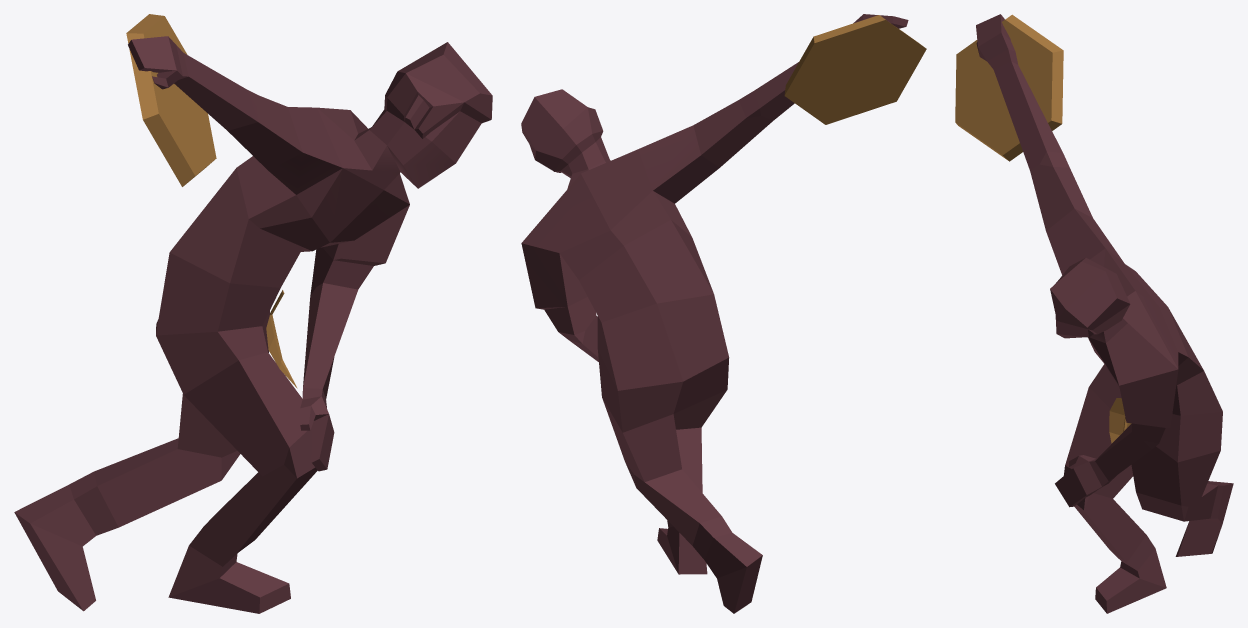
File: empire-statue-small-diskobolos-empire.glb
3 views of the same model, side by side, from view 1: azimuth 30°, elevation 25°; view 2: azimuth 150°, elevation 25°; view 3: azimuth 270°, elevation 25° (orthographic). The views are drawn at different scales.
Parts seen in each view (by area): view 1: SM_Statue_Small_Diskobolos_Empire; view 2: SM_Statue_Small_Diskobolos_Empire; view 3: SM_Statue_Small_Diskobolos_Empire.
Part boxes in pixels (left/top/right/bottom): SM_Statue_Small_Diskobolos_Empire: left=14, top=14, right=492, bottom=613; SM_Statue_Small_Diskobolos_Empire: left=521, top=14, right=926, bottom=613; SM_Statue_Small_Diskobolos_Empire: left=955, top=14, right=1233, bottom=613.
Bounding box in the file's own units: 1.14 × 1.72 × 0.837.
